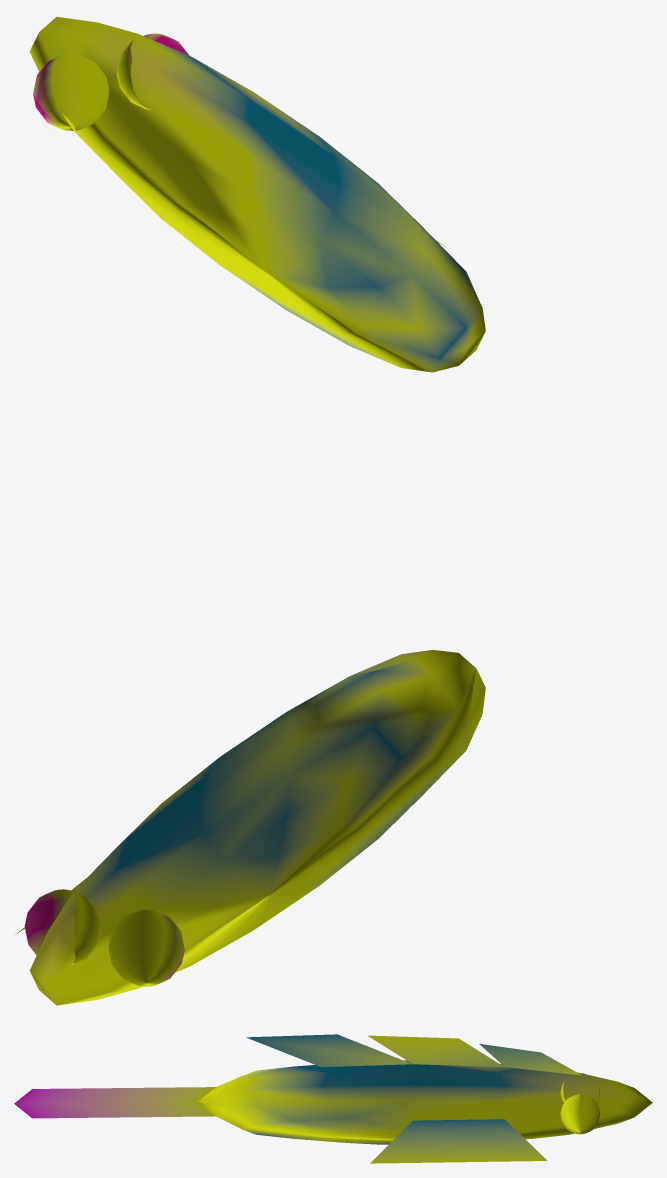
File: smallman.glb
The picture shows the model from 3 angles, top to bottom: view 1: azimuth 30°, elevation 25°; view 2: azimuth 150°, elevation 25°; view 3: azimuth 270°, elevation 25°; orthographic projection. The views are drawn at different scales.
Visible parts, largest first — view 1: smallman2; view 2: smallman2; view 3: smallman2.
Boxes of the visible parts, bbox=[...] form: smallman2: bbox=[29, 17, 485, 372]; smallman2: bbox=[15, 650, 485, 1005]; smallman2: bbox=[14, 1034, 652, 1163].
Bounding box in the file's own units: 0.2043 × 0.1466 × 0.7953.
